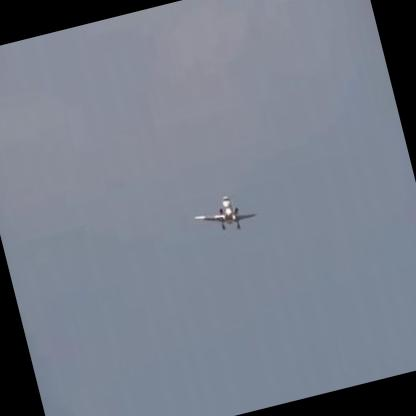plane: (190, 189, 262, 240)
